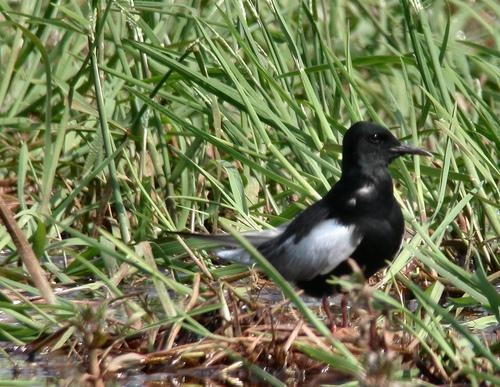bird: (178, 121, 437, 284)
